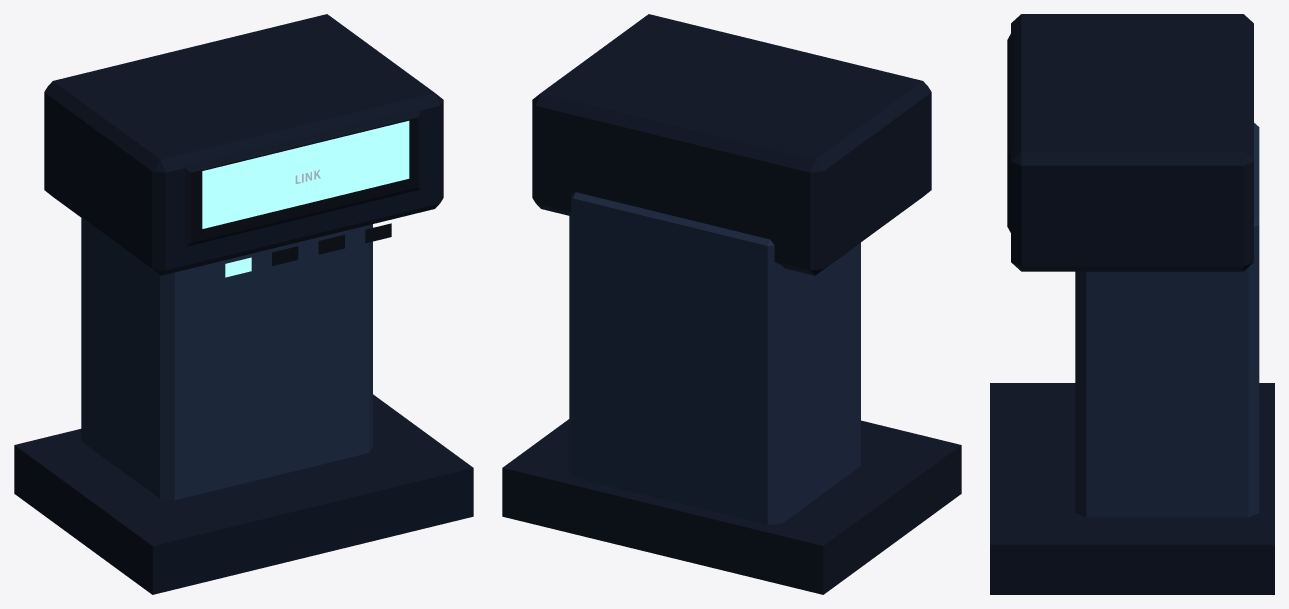
File: Terminal.fbx
3 renders of one model, left to right at view 1: azimuth 30°, elevation 25°; view 2: azimuth 150°, elevation 25°; view 3: azimuth 270°, elevation 25°, orthographic. The views are drawn at different scales.
Parts seen in each view (by area): view 1: KIT_Terminal_Mesh; view 2: KIT_Terminal_Mesh; view 3: KIT_Terminal_Mesh.
Boxes of the visible parts, x1,y1,x2,y2 form: KIT_Terminal_Mesh: (14,14,473,594); KIT_Terminal_Mesh: (502,14,961,594); KIT_Terminal_Mesh: (990,14,1274,594).
Size of the model in its own units: 1.1 by 1.37 by 0.82.
